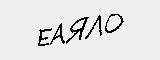А: (47, 20, 64, 46)
Е: (35, 27, 52, 46)
Л: (83, 10, 103, 41)
О: (103, 11, 124, 34)
Я: (65, 13, 89, 45)
